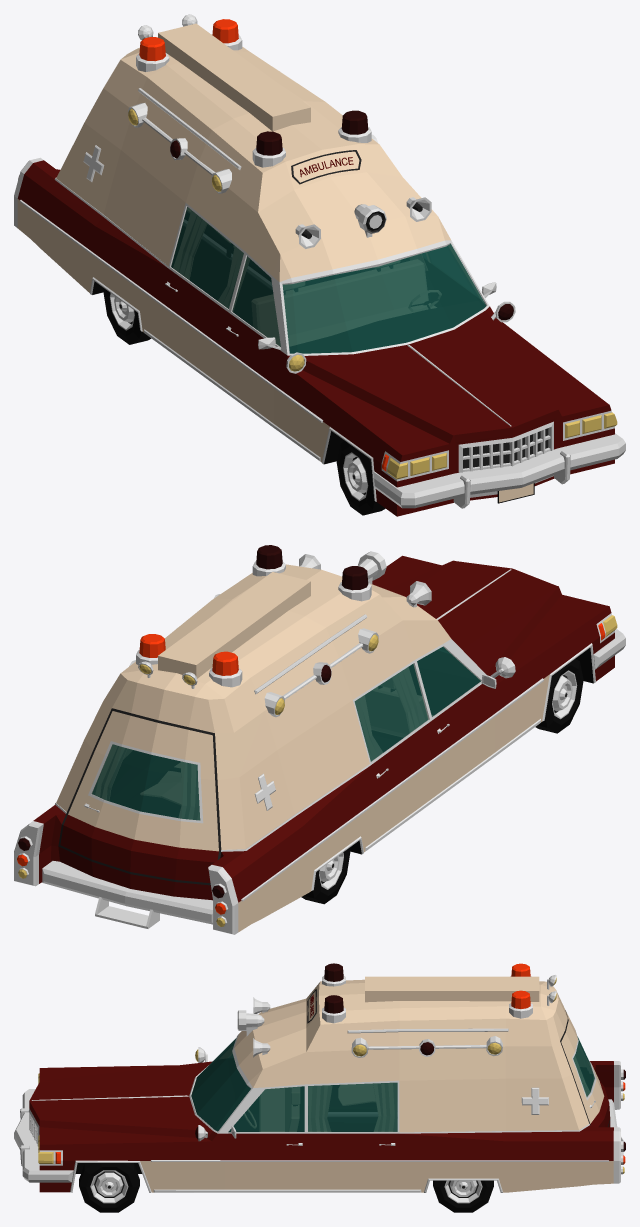
Rendered from Ambulance_04.FBX.
The picture shows the model from 3 angles, top to bottom: view 1: azimuth 30°, elevation 25°; view 2: azimuth 150°, elevation 25°; view 3: azimuth 270°, elevation 25°; orthographic projection. The views are drawn at different scales.
Parts seen in each view (by area): view 1: Ambulance_04, seats, bumper_f, lights, wheel_f_r, horns, curtains_r, signalLights_01, headLights, signalLights_02, grill, wheel_b_r (+1 smaller); view 2: Ambulance_04, backDoor, bumper_b, lights, wheel_f_r, seats, curtains_b, stretcher, curtains_r, signalLights_01, signalLights_02, horns (+2 smaller); view 3: Ambulance_04, wheel_f_l, backDoor, lights, curtains_l, bumper_f, seats, wheel_b_l, stretcher, signalLights_01, horns, signalLights_02.
Boxes of the visible parts, left/top/right/bottom form: Ambulance_04: left=14, top=23, right=614, bottom=516; seats: left=252, top=260, right=435, bottom=346; bumper_f: left=373, top=433, right=625, bottom=508; lights: left=18, top=14, right=614, bottom=481; wheel_f_r: left=336, top=441, right=385, bottom=515; horns: left=295, top=197, right=431, bottom=248; curtains_r: left=173, top=211, right=249, bottom=308; signalLights_01: left=128, top=19, right=513, bottom=320; headLights: left=387, top=412, right=617, bottom=479; signalLights_02: left=139, top=37, right=368, bottom=371; grill: left=463, top=429, right=550, bottom=471; wheel_b_r: left=103, top=288, right=151, bottom=344; Ambulance_04: left=14, top=555, right=614, bottom=934; backDoor: left=58, top=708, right=221, bottom=885; bumper_b: left=42, top=861, right=212, bottom=928; lights: left=17, top=561, right=614, bottom=927; wheel_f_r: left=535, top=658, right=583, bottom=733; seats: left=365, top=679, right=433, bottom=740; curtains_b: left=93, top=745, right=199, bottom=819; stretcher: left=123, top=763, right=180, bottom=817; curtains_r: left=355, top=668, right=425, bottom=760; signalLights_01: left=139, top=566, right=378, bottom=714; signalLights_02: left=139, top=545, right=331, bottom=682; horns: left=299, top=551, right=431, bottom=607; Ambulance_04: left=29, top=976, right=620, bottom=1192; wheel_f_l: left=79, top=1163, right=139, bottom=1212; backDoor: left=560, top=1010, right=610, bottom=1127; lights: left=39, top=975, right=623, bottom=1174; curtains_l: left=308, top=1083, right=397, bottom=1131; bumper_f: left=14, top=1089, right=73, bottom=1182; seats: left=259, top=1087, right=299, bottom=1131; wheel_b_l: left=433, top=1180, right=493, bottom=1212; stretcher: left=328, top=1084, right=377, bottom=1115; signalLights_01: left=195, top=963, right=556, bottom=1139; horns: left=237, top=997, right=270, bottom=1057; signalLights_02: left=195, top=963, right=556, bottom=1061.
Size of the model in its own units: 29.49 by 30.2 by 86.38.
